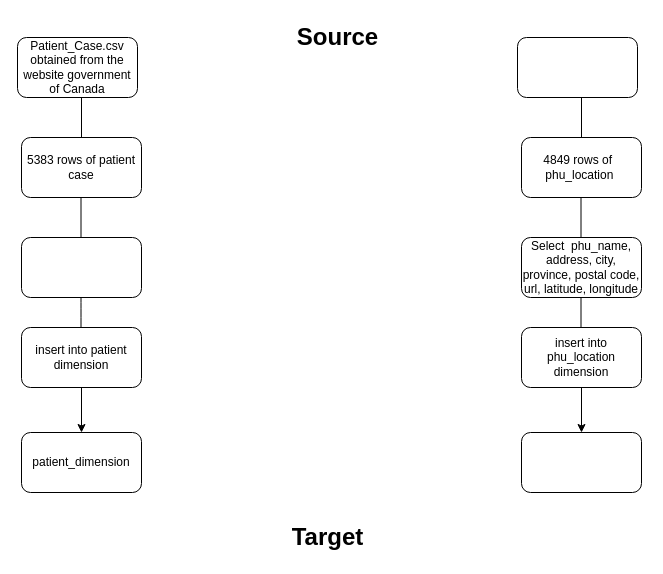
Some shapes in this 663 by 574 pixel diagram are drawn without their labels. Each missing label, with the centre of its shape:
"Phu_location.csv obtained from the website government of Canada" goes at (x=577, y=67).
"phu_location_dimension" goes at (x=581, y=462).
"Select gender, Age group, Acquisition group, Outbreak related and date." goes at (x=81, y=267).
